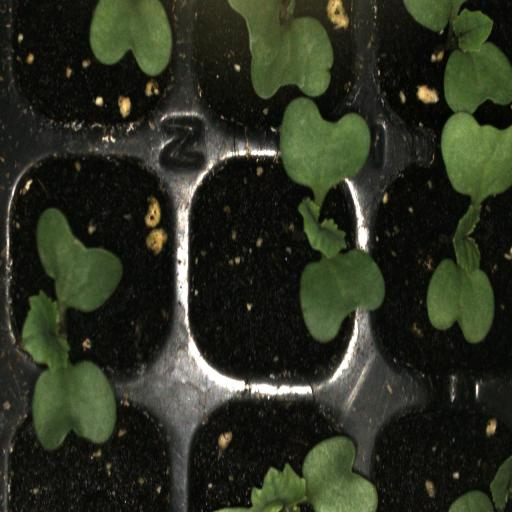Folha: (220, 436, 378, 512)
Germinacao: (186, 142, 367, 391), (2, 142, 184, 389), (368, 143, 512, 389), (367, 0, 512, 142)
